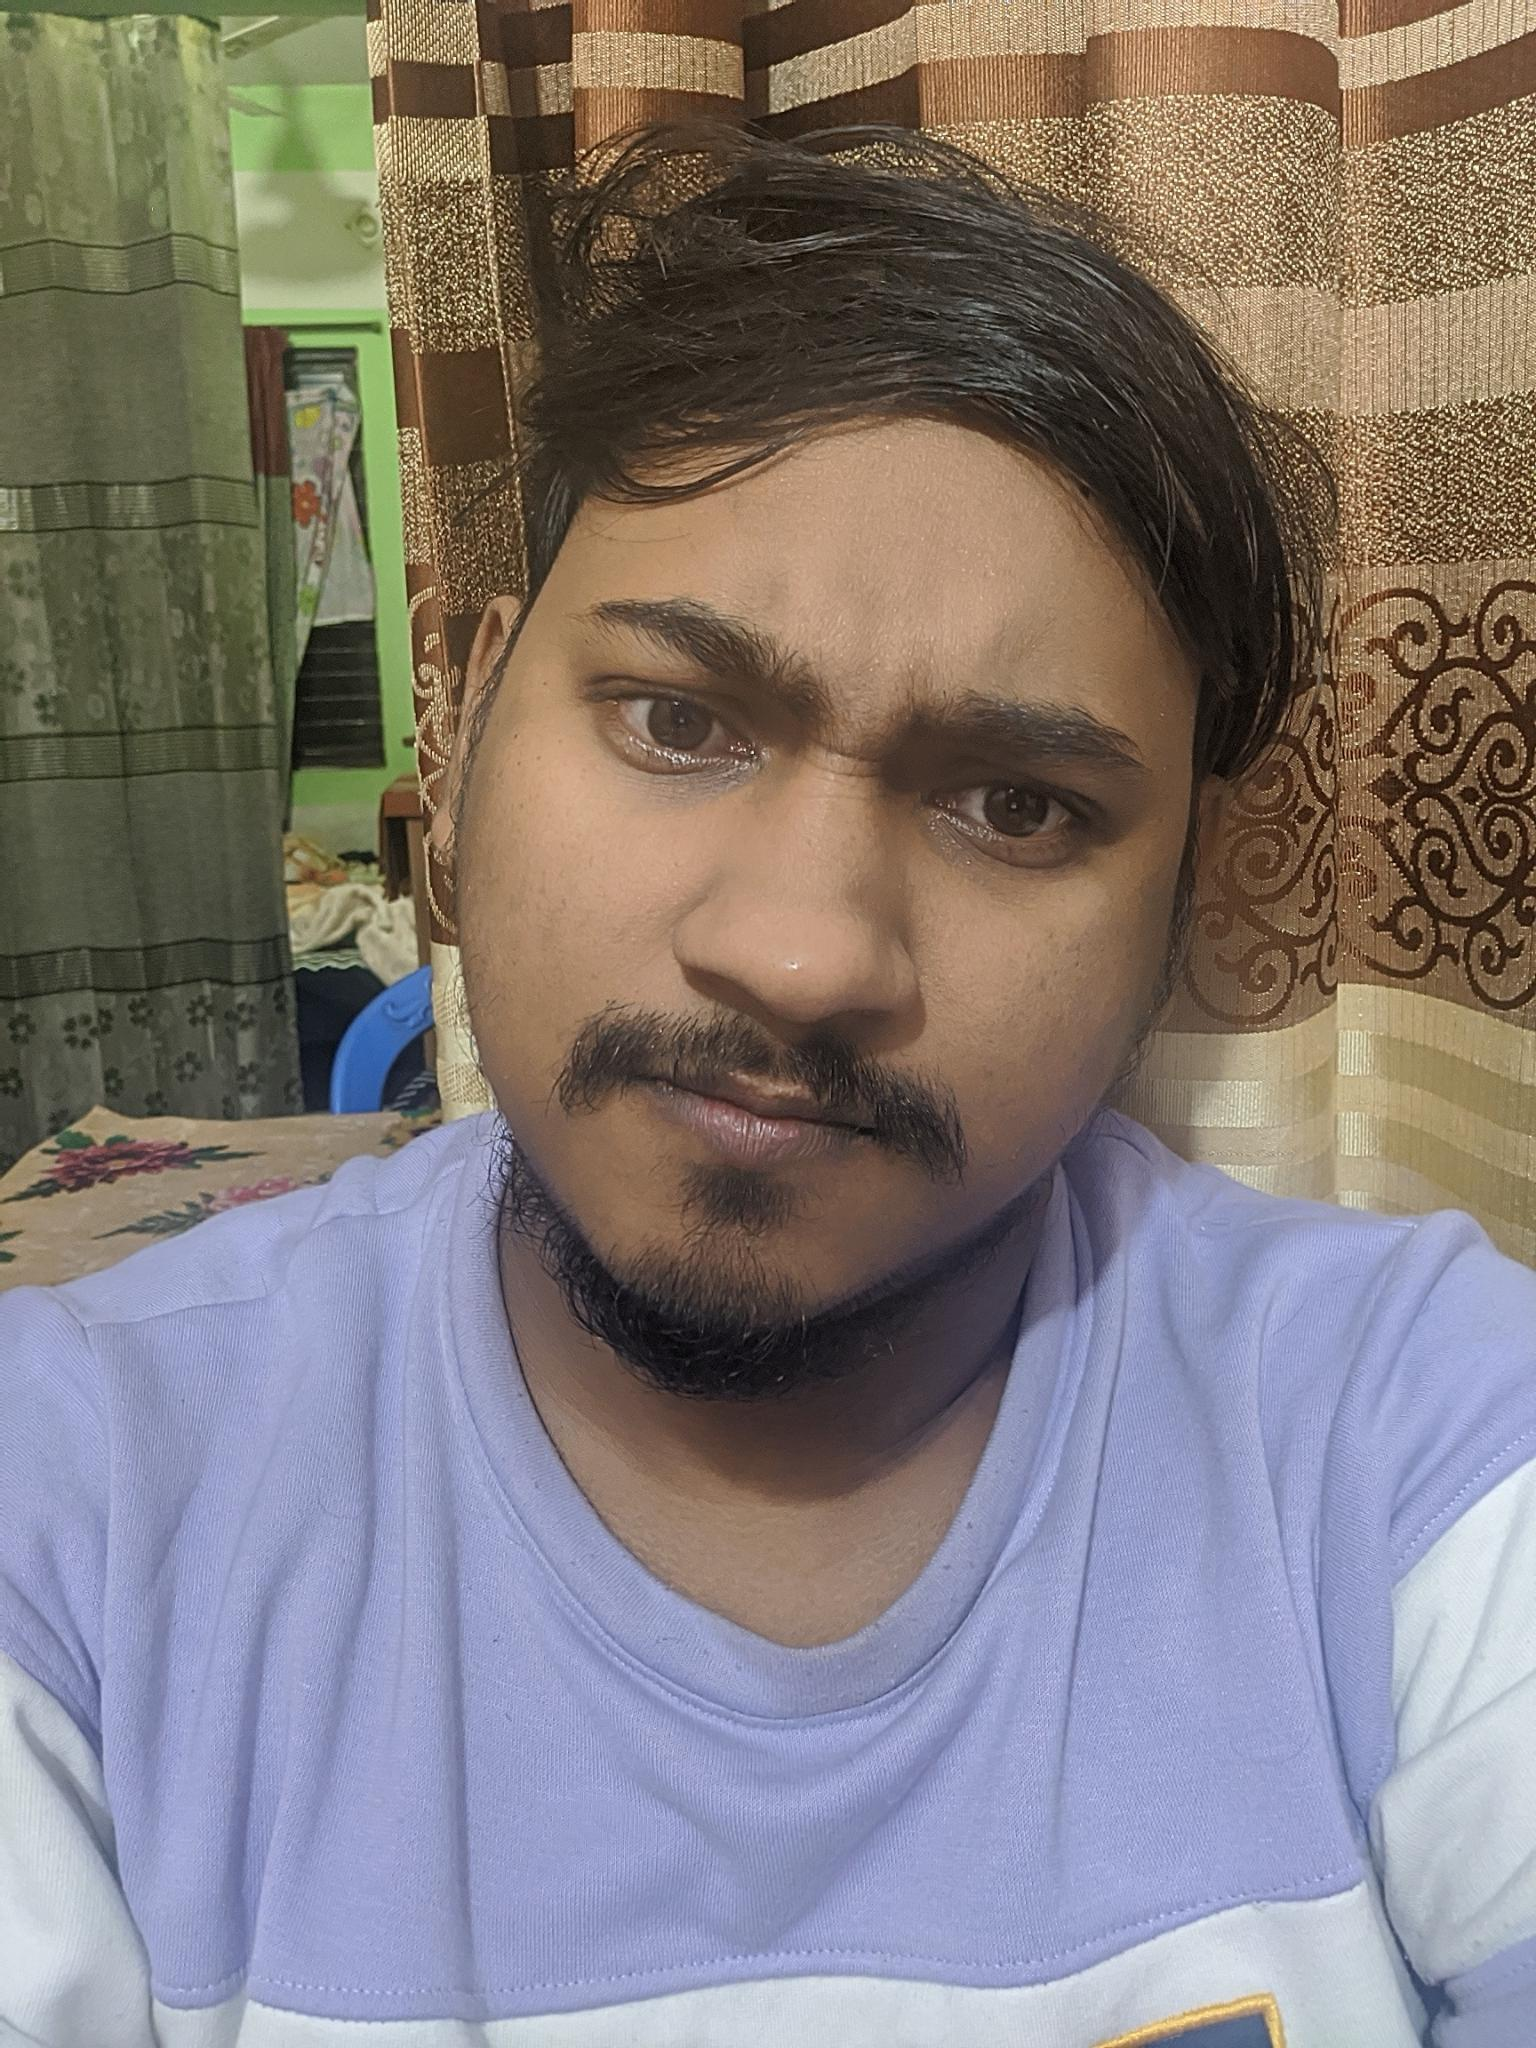Angry: (481, 497, 1197, 1343)
